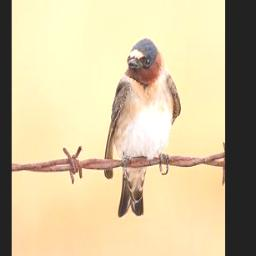Swallow: (103, 36, 181, 218)
